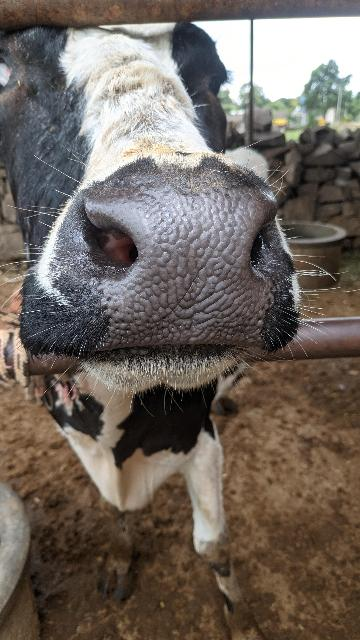Muzzle: (88, 188, 264, 342)
